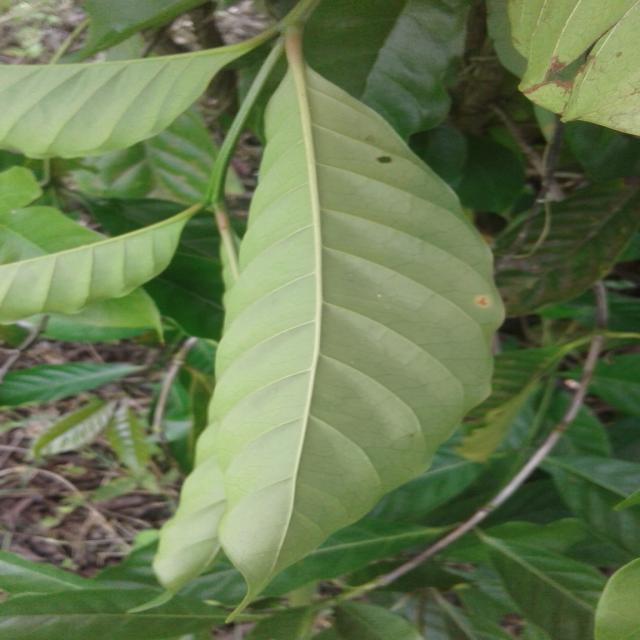Enfermedad-Roya: (209, 63, 505, 606)
